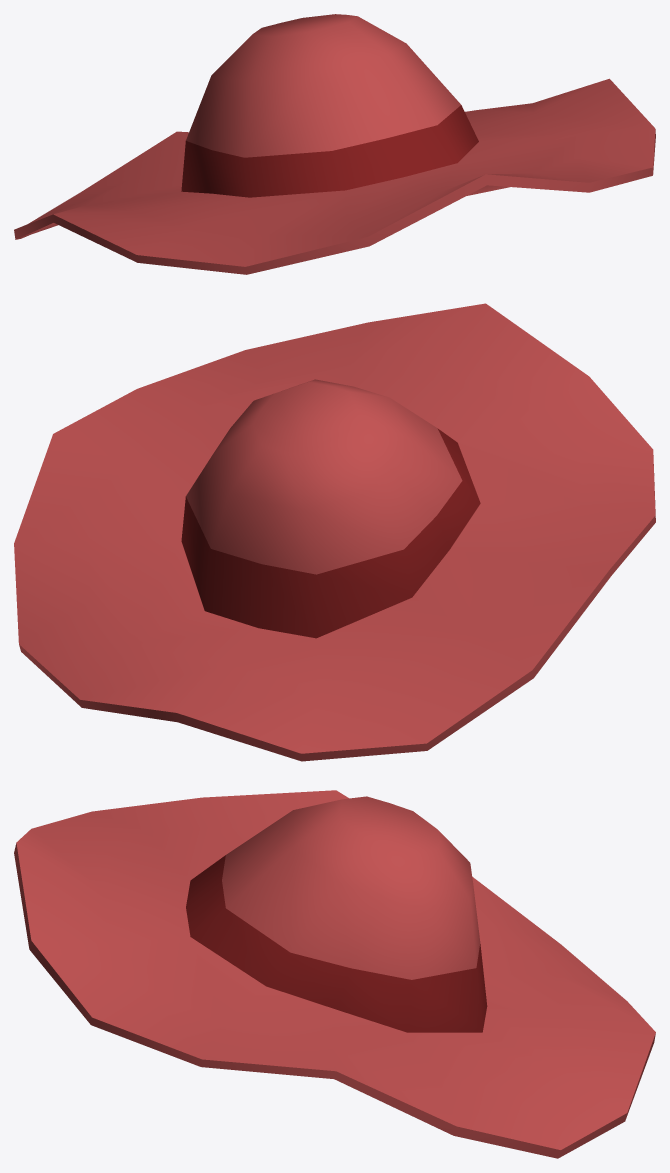
Rendered from Hat.fbx.
3 renders of one model, top to bottom at view 1: azimuth 30°, elevation 25°; view 2: azimuth 150°, elevation 25°; view 3: azimuth 270°, elevation 25°, orthographic. The views are drawn at different scales.
Parts seen in each view (by area): view 1: Plane.005; view 2: Plane.005; view 3: Plane.005.
Boxes of the visible parts, left/top/right/bottom form: Plane.005: left=14, top=14, right=655, bottom=274; Plane.005: left=14, top=303, right=655, bottom=761; Plane.005: left=14, top=790, right=655, bottom=1158.
Bounding box in the file's own units: 44.22 × 18.82 × 42.63.
